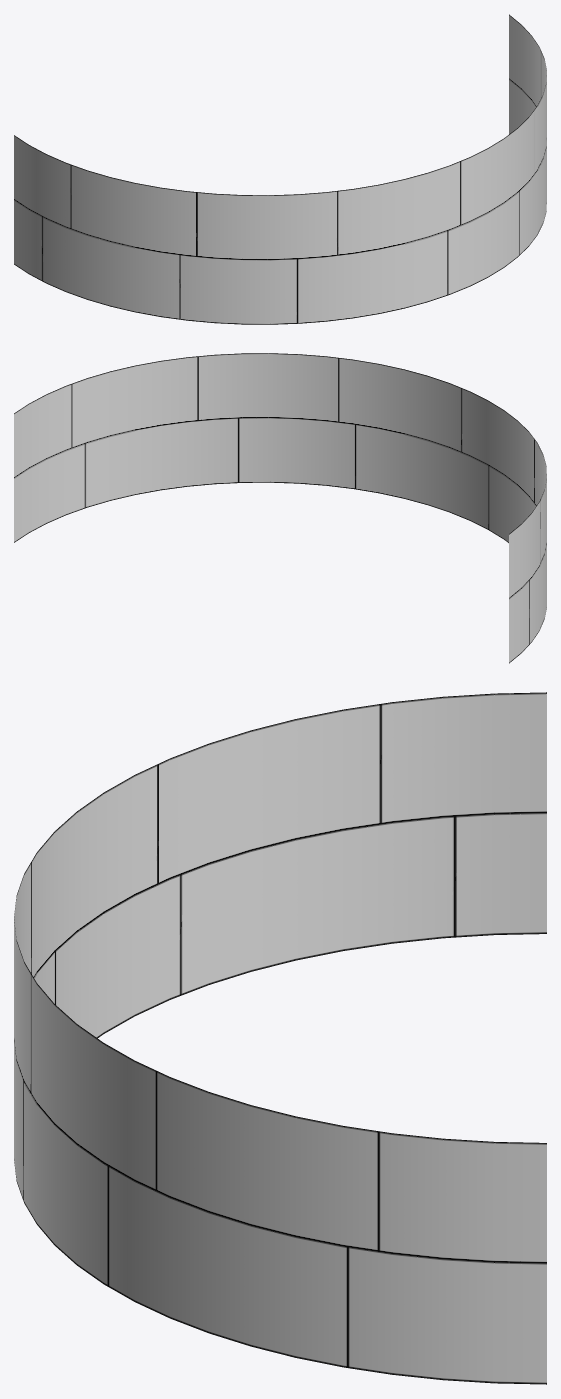
The model's file is Wall700x175xRout350cm.FBX.
3 views of the same model, one above another, from view 1: azimuth 30°, elevation 25°; view 2: azimuth 150°, elevation 25°; view 3: azimuth 270°, elevation 25° (orthographic). The views are drawn at different scales.
Visible parts, largest first — view 1: Wall700x175xRout350cm; view 2: Wall700x175xRout350cm; view 3: Wall700x175xRout350cm.
Part boxes in pixels (x1,y1,x2,y2): Wall700x175xRout350cm: (14, 14, 546, 324); Wall700x175xRout350cm: (14, 353, 546, 663); Wall700x175xRout350cm: (14, 692, 546, 1384).
Bounding box in the file's own units: 700 × 175 × 350.
